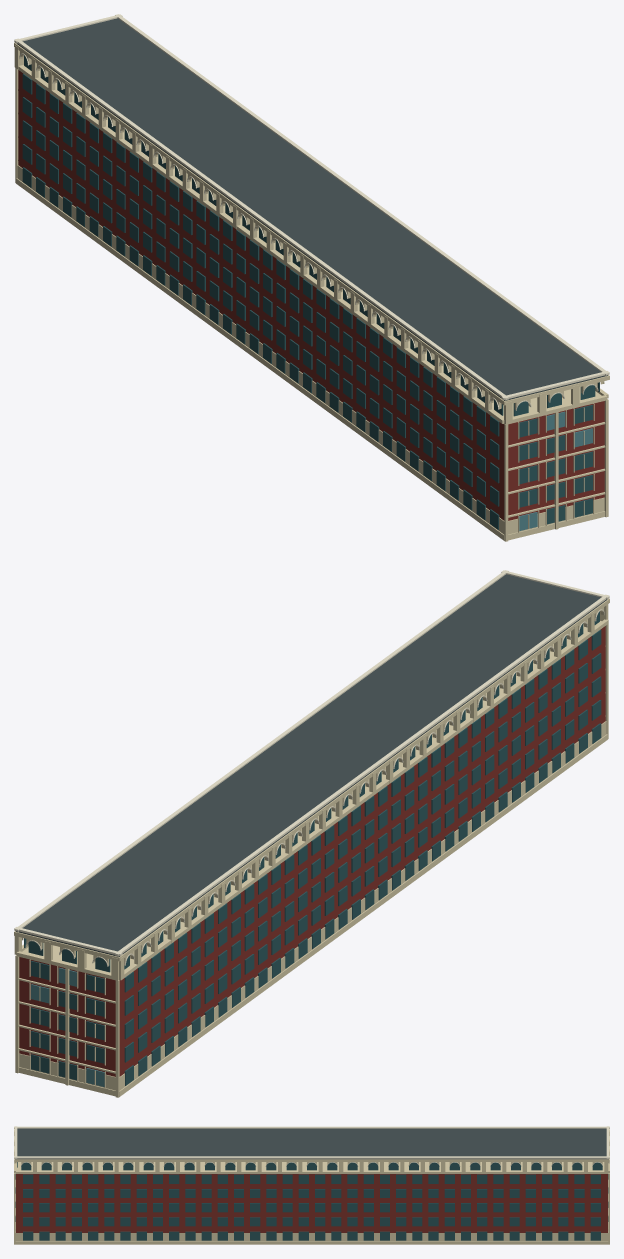
The picture shows the model from 3 angles, top to bottom: view 1: azimuth 30°, elevation 25°; view 2: azimuth 150°, elevation 25°; view 3: azimuth 270°, elevation 25°; orthographic projection. The views are drawn at different scales.
Visible parts, largest first — view 1: MainBlock_Roof, MainBlock_Structure, MainBlock_SideWindows, MainBlock_RoofCoping, MainBlock_AtticPiers, MainBlock_WindowGlass, MainBlock_Plinth, MainBlock_GroundStonework, MainBlock_AtticSills, MainBlock_Cornice, MainBlock_AtticRecess, MainBlock_Pilasters (+5 smaller); view 2: MainBlock_Roof, MainBlock_Structure, MainBlock_SideWindows, MainBlock_RoofCoping, MainBlock_AtticPiers, MainBlock_WindowGlass, MainBlock_Plinth, MainBlock_GroundStonework, MainBlock_AtticSills, MainBlock_Cornice, MainBlock_Pilasters, MainBlock_AtticRecess (+5 smaller); view 3: MainBlock_Structure, MainBlock_SideWindows, MainBlock_Roof, MainBlock_RoofCoping, MainBlock_AtticRecess, MainBlock_Plinth, MainBlock_GroundStonework, MainBlock_AtticFloor, MainBlock_AtticSills, MainBlock_AtticPiers, MainBlock_Cornice, MainBlock_AtticArchTrim (+2 smaller).
Boxes of the visible parts, x1,y1,x2,y2 form: MainBlock_Roof: (17,18,607,400); MainBlock_Structure: (18,70,604,520); MainBlock_SideWindows: (22,73,499,529); MainBlock_RoofCoping: (14,14,609,400); MainBlock_AtticPiers: (14,45,579,424); MainBlock_WindowGlass: (519,405,592,530); MainBlock_Plinth: (15,178,605,541); MainBlock_GroundStonework: (17,165,604,534); MainBlock_AtticSills: (18,65,608,423); MainBlock_Cornice: (14,42,609,405); MainBlock_AtticRecess: (24,55,599,416); MainBlock_Pilasters: (15,68,608,541); MainBlock_Roof: (16,574,606,956); MainBlock_Structure: (19,626,605,1076); MainBlock_SideWindows: (124,629,601,1085); MainBlock_RoofCoping: (14,570,609,956); MainBlock_AtticPiers: (14,604,608,980); MainBlock_WindowGlass: (31,961,104,1086); MainBlock_Plinth: (18,734,608,1097); MainBlock_GroundStonework: (19,721,606,1090); MainBlock_AtticSills: (16,619,608,978); MainBlock_Cornice: (14,598,609,961); MainBlock_Pilasters: (15,624,608,1097); MainBlock_AtticRecess: (24,611,599,972); MainBlock_Structure: (16,1174,607,1232); MainBlock_SideWindows: (23,1174,600,1240); MainBlock_Roof: (15,1128,608,1159); MainBlock_RoofCoping: (14,1126,609,1158); MainBlock_AtticRecess: (17,1162,602,1170); MainBlock_Plinth: (15,1241,608,1244); MainBlock_GroundStonework: (15,1230,608,1240); MainBlock_AtticFloor: (15,1162,604,1173); MainBlock_AtticSills: (14,1163,609,1173); MainBlock_AtticPiers: (14,1130,609,1173); MainBlock_Cornice: (14,1129,609,1161); MainBlock_AtticArchTrim: (14,1136,609,1166).
Bounding box in the file's own units: 18.58 × 23.94 × 148.
